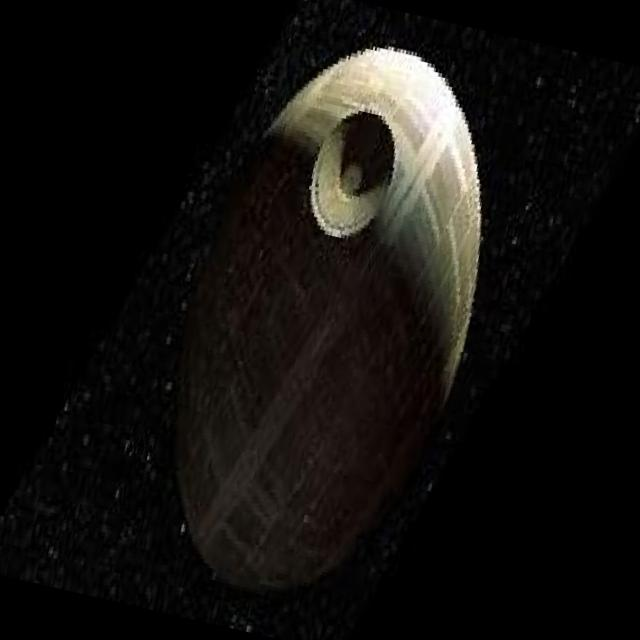Death Star: (122, 10, 532, 638)
